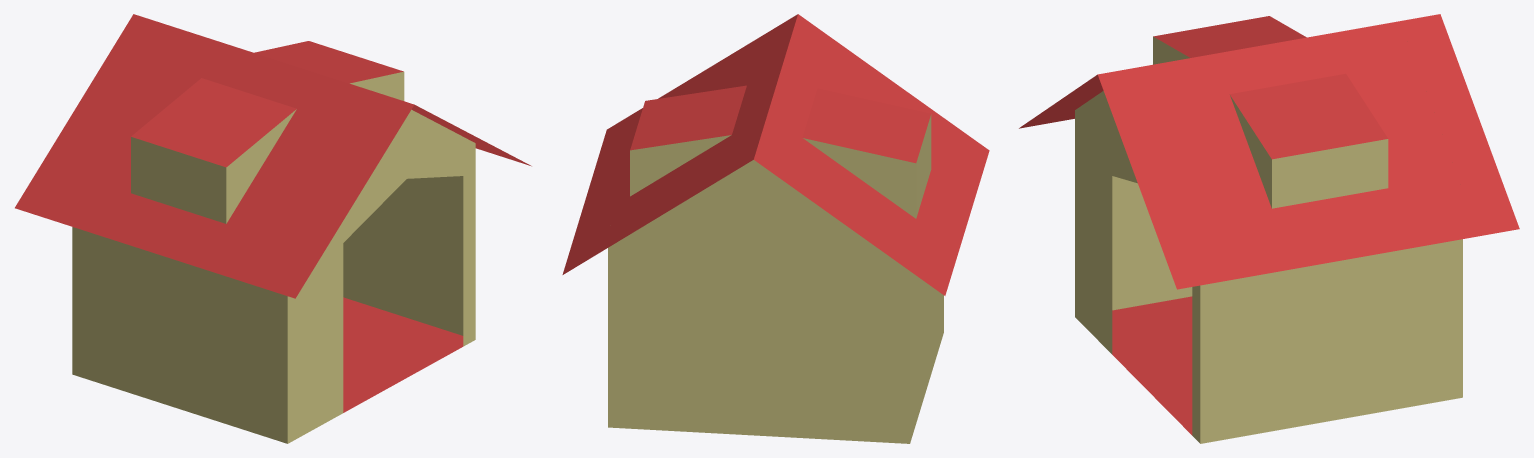
3 views of the same model, side by side, from view 1: azimuth 30°, elevation 25°; view 2: azimuth 150°, elevation 25°; view 3: azimuth 270°, elevation 25° (orthographic). The views are drawn at different scales.
Bounding box in the file's own units: 18.07 × 17.31 × 11.92.
